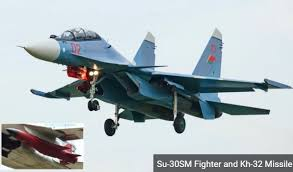maybay_muctieu: (23, 25, 284, 131)
